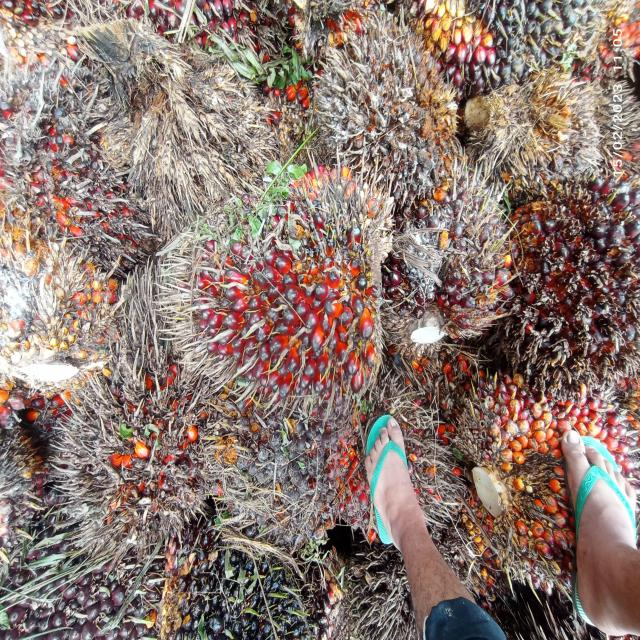fraksi 00: (148, 485, 305, 640)
fraksi 1: (113, 132, 429, 463), (379, 159, 513, 353)
fraksi 4: (0, 0, 151, 315)
